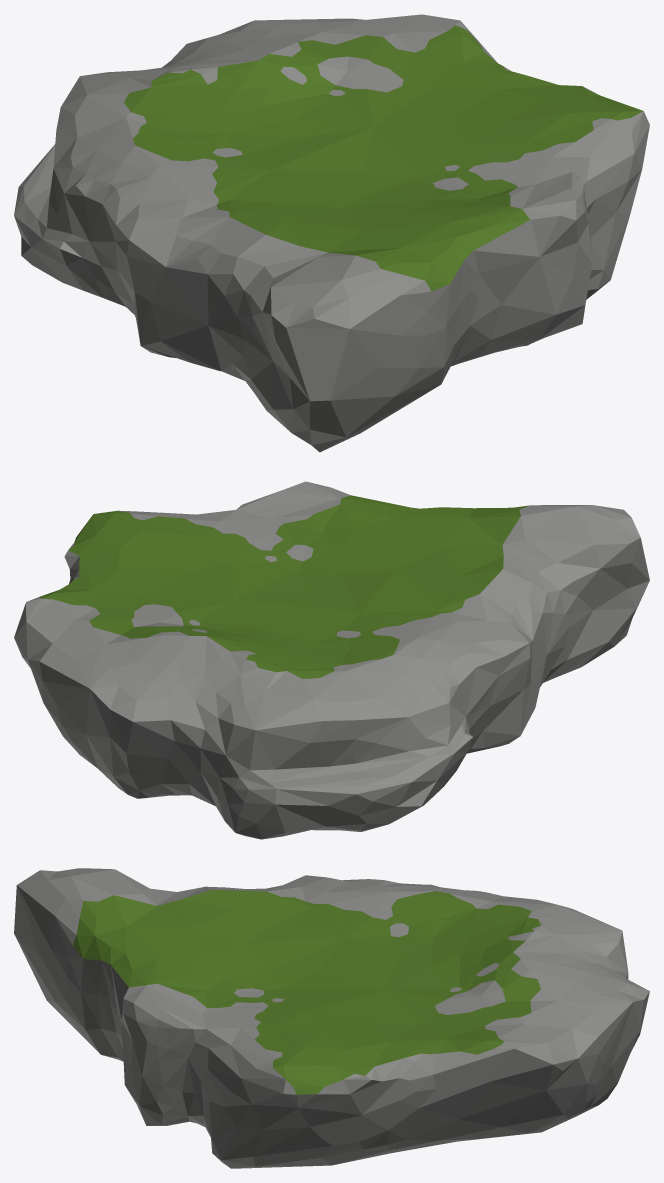
The model's file is Cavern_FloorGrass_Wide_Corner-02.fbx.
3 renders of one model, top to bottom at view 1: azimuth 30°, elevation 25°; view 2: azimuth 150°, elevation 25°; view 3: azimuth 270°, elevation 25°, orthographic. The views are drawn at different scales.
Visible parts, largest first — view 1: Cavern_FloorGrass_Wide_Corner-02; view 2: Cavern_FloorGrass_Wide_Corner-02; view 3: Cavern_FloorGrass_Wide_Corner-02.
Part boxes in pixels (x1,y1,x2,y2): Cavern_FloorGrass_Wide_Corner-02: (14,14,649,452); Cavern_FloorGrass_Wide_Corner-02: (14,481,649,839); Cavern_FloorGrass_Wide_Corner-02: (14,868,649,1168).
Size of the model in its own units: 1703 by 540 by 2075.
Materials: 1 (1 with a texture image).
